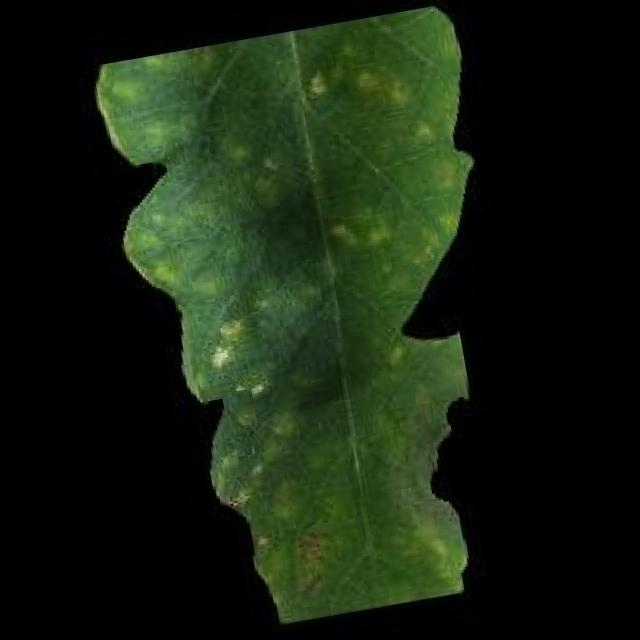Tomato_Late_Blight: (239, 499, 474, 612)
